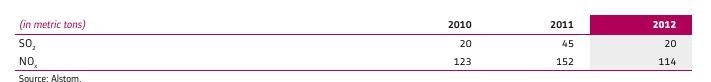table: (0, 0, 711, 82)
